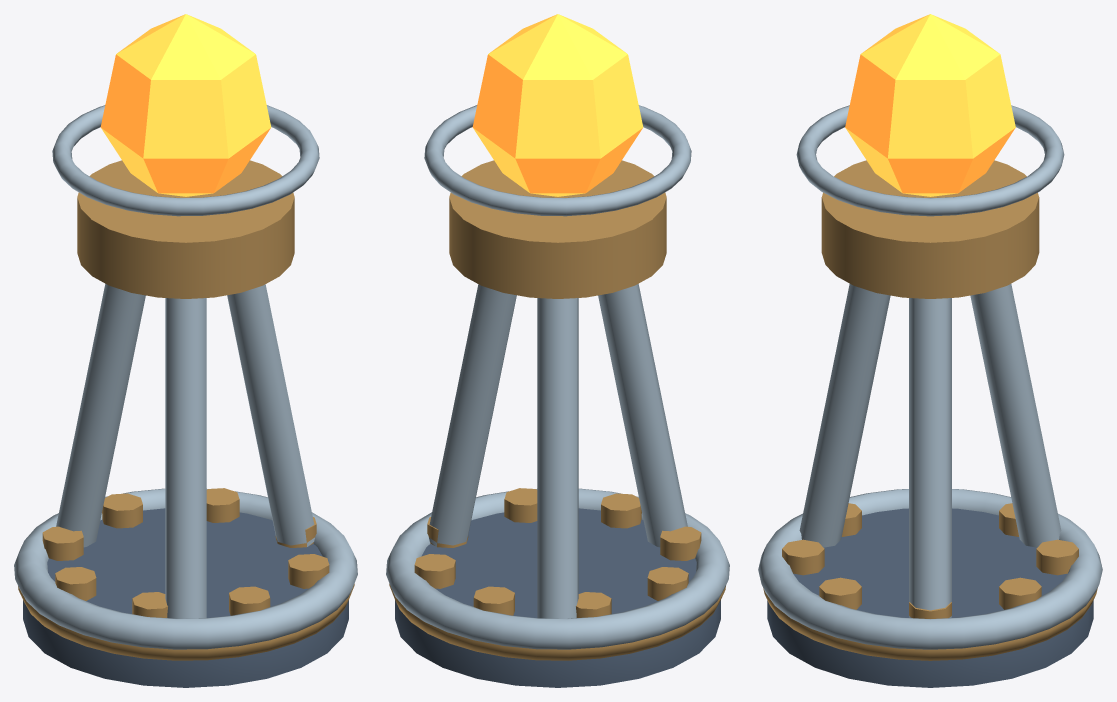
Rendered from moonsteel-convergence-sentry-tripod-801243eb__18197.glb.
3 views of the same model, side by side, from view 1: azimuth 30°, elevation 25°; view 2: azimuth 150°, elevation 25°; view 3: azimuth 270°, elevation 25° (orthographic).
Parts seen in each view (by area): view 1: sentry-tripod; view 2: sentry-tripod; view 3: sentry-tripod.
Boxes of the visible parts, x1=… form: sentry-tripod: x1=14, y1=14, x2=357, y2=687; sentry-tripod: x1=386, y1=14, x2=729, y2=687; sentry-tripod: x1=758, y1=14, x2=1102, y2=687.
Bounding box in the file's own units: 0.888 × 1.72 × 0.888.
